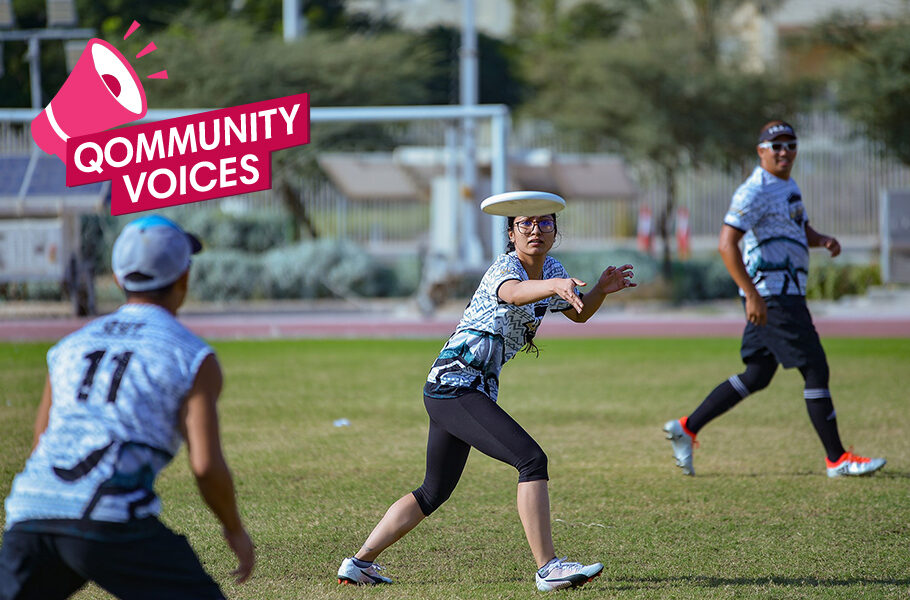disc: (475, 189, 572, 227)
